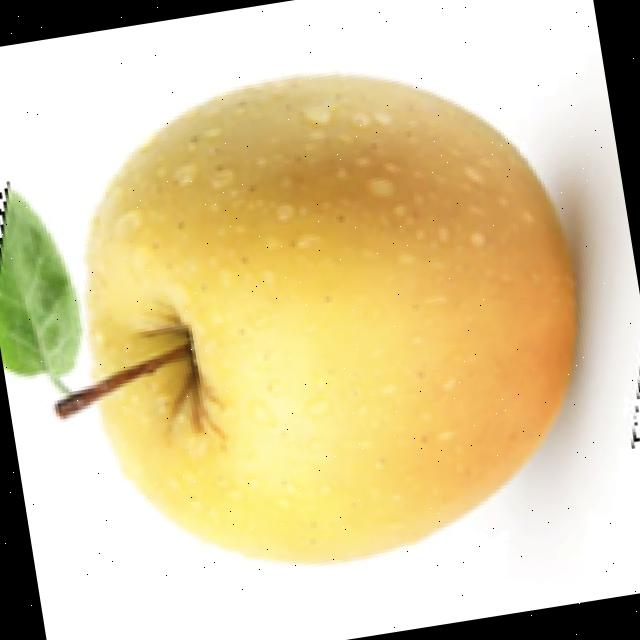apple: (0, 68, 627, 568)
